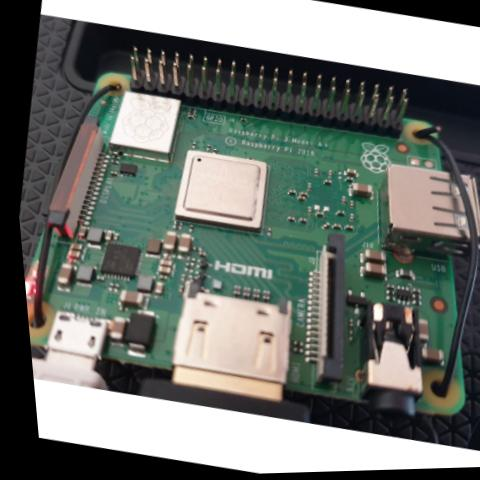Raspberry-Pi-3-Model-A-: (2, 12, 480, 449)
